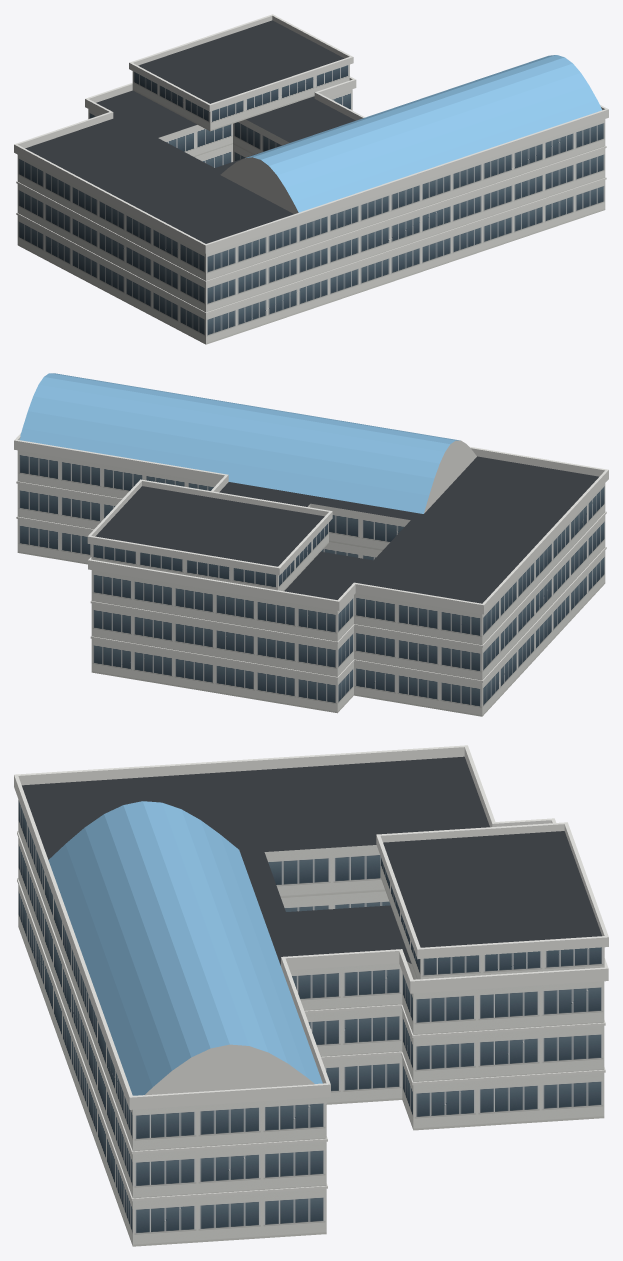
The model's file is jijialou.glb.
3 views of the same model, one above another, from view 1: azimuth 30°, elevation 25°; view 2: azimuth 150°, elevation 25°; view 3: azimuth 270°, elevation 25° (orthographic). The views are drawn at different scales.
Parts seen in each view (by area): view 1: 基嘉楼; view 2: 基嘉楼; view 3: 基嘉楼.
Part boxes in pixels (<box>): 基嘉楼: <box>14,14,608,344</box>; 基嘉楼: <box>14,373,608,716</box>; 基嘉楼: <box>14,745,608,1246</box>.
Size of the model in its own units: 55.1 by 14.3 by 39.32.
4 materials, 1 textured.
